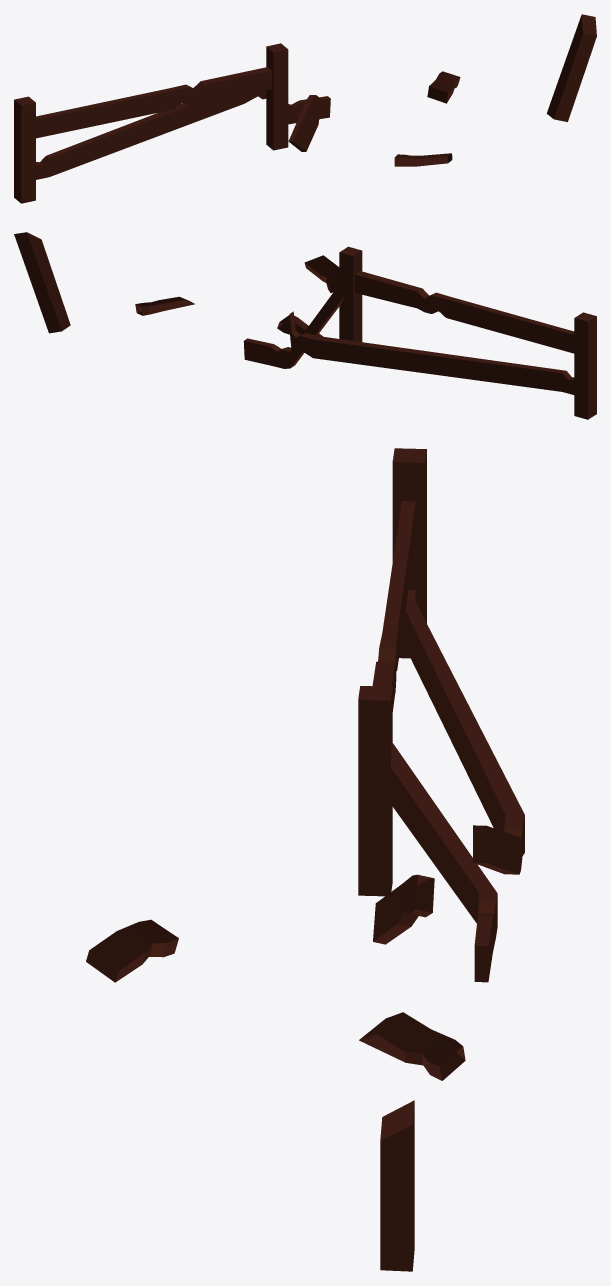
Rendered from FenceB.FBX.
3 renders of one model, top to bottom at view 1: azimuth 30°, elevation 25°; view 2: azimuth 150°, elevation 25°; view 3: azimuth 270°, elevation 25°, orthographic. The views are drawn at different scales.
Visible parts, largest first — view 1: FenceB; view 2: FenceB; view 3: FenceB.
Boxes of the visible parts, <box> form: FenceB: <box>14,14,596,203</box>; FenceB: <box>14,232,596,419</box>; FenceB: <box>86,448,524,1271</box>.
Bounding box in the file's own units: 679 × 164 × 223.
